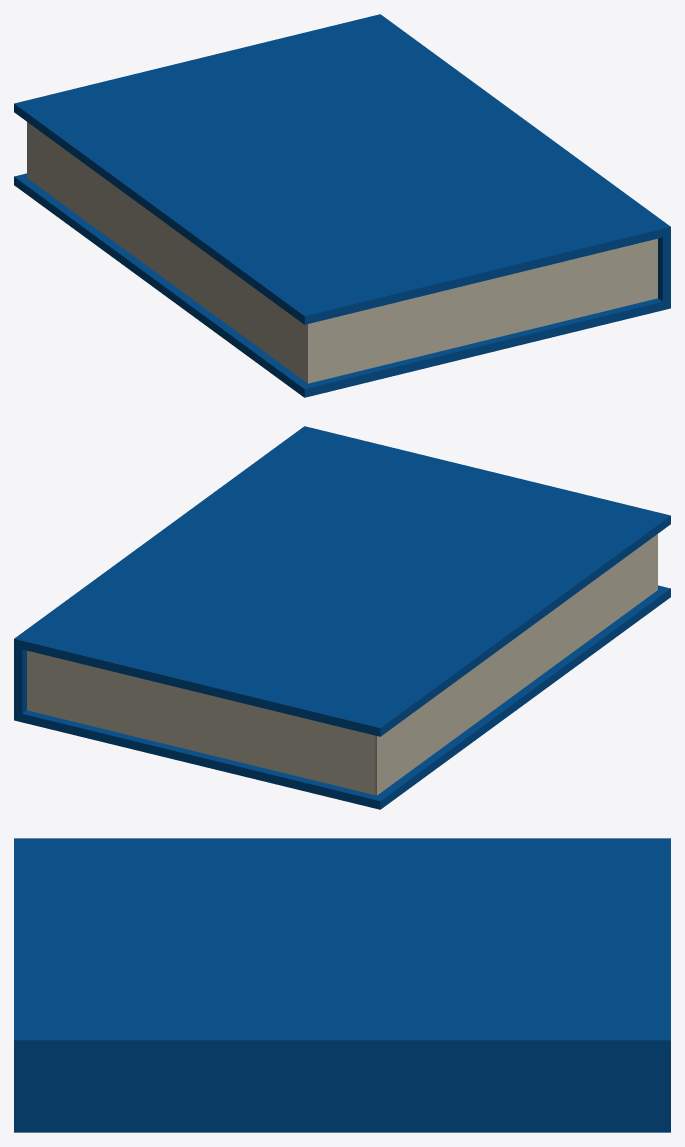
Rendered from book.fbx.
3 views of the same model, one above another, from view 1: azimuth 30°, elevation 25°; view 2: azimuth 150°, elevation 25°; view 3: azimuth 270°, elevation 25° (orthographic). The views are drawn at different scales.
Visible parts, largest first — view 1: Cube; view 2: Cube; view 3: Cube.
Boxes of the visible parts, x1,y1,x2,y2 form: Cube: (14, 14, 670, 397); Cube: (14, 426, 670, 809); Cube: (14, 838, 670, 1132).
Size of the model in its own units: 444 by 94.47 by 610.
Materials: 1 (1 with a texture image).
